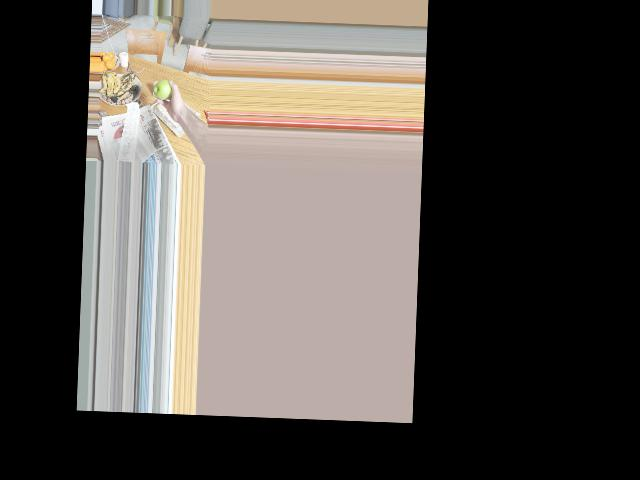apple: (154, 78, 175, 102)
